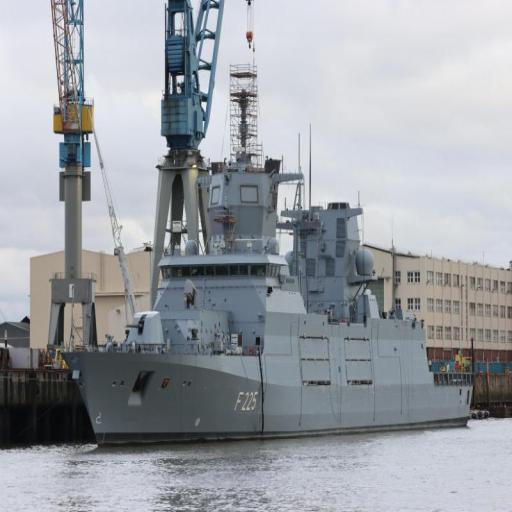Fragata: (54, 64, 477, 455)
